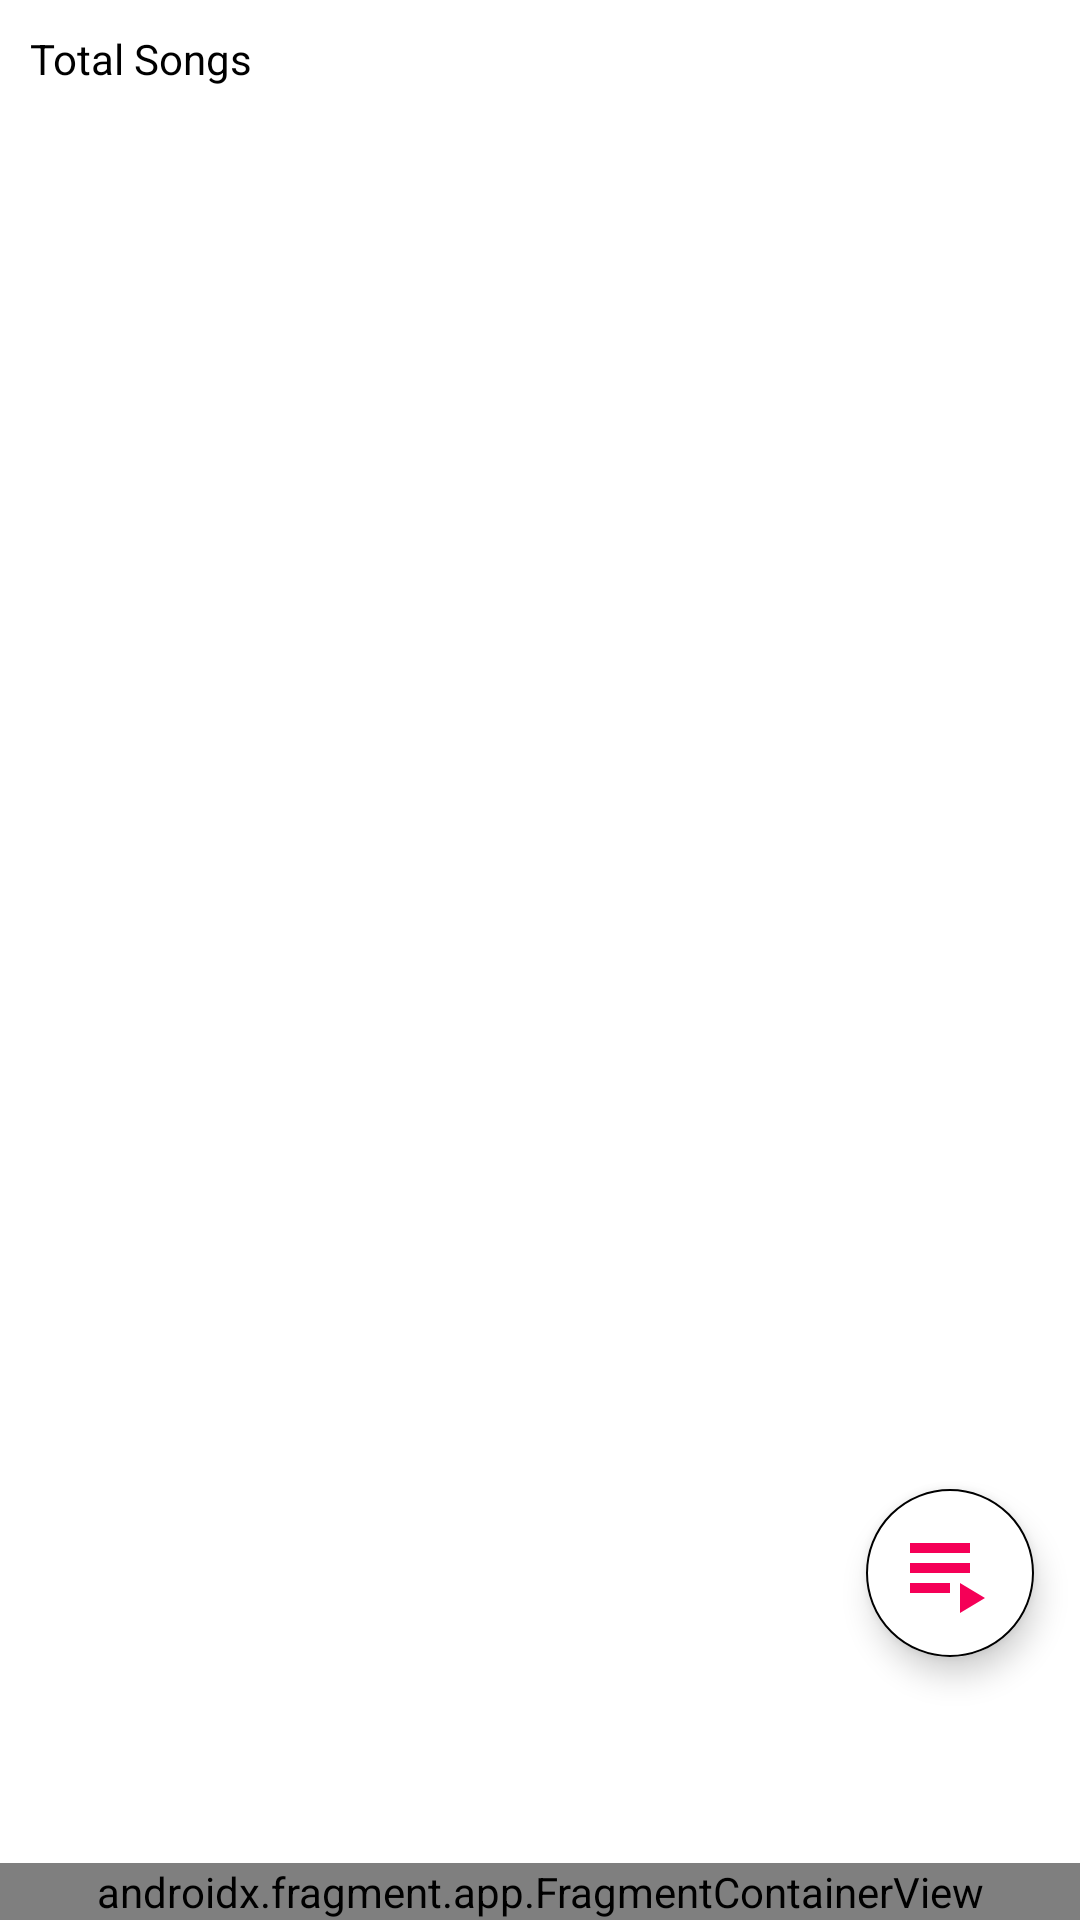

Locate icon controls on the screen. Image size 1080px×1920px, boxes as (x1, y1, x2, y2).
playlist play: (866, 1489, 1034, 1657)
